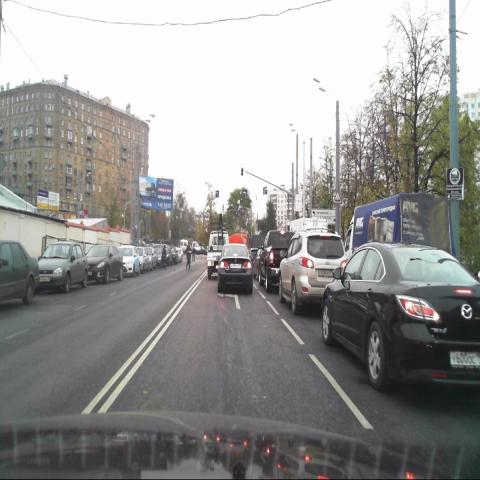1_5: (333, 190, 342, 205)
